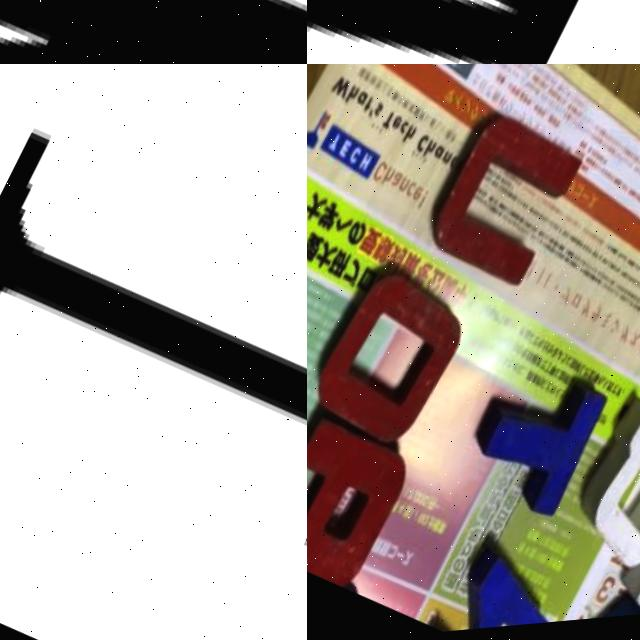1: (0, 97, 307, 619)
A: (307, 405, 418, 601)
M: (307, 0, 640, 64), (0, 0, 307, 64)
O: (307, 252, 477, 459)
Q: (555, 390, 640, 592)
T: (460, 363, 610, 531)
U: (420, 107, 586, 293)
